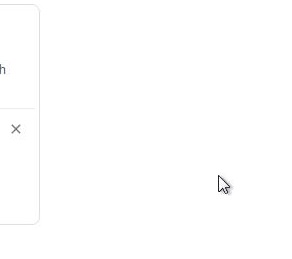cursor: (217, 174, 231, 194)
